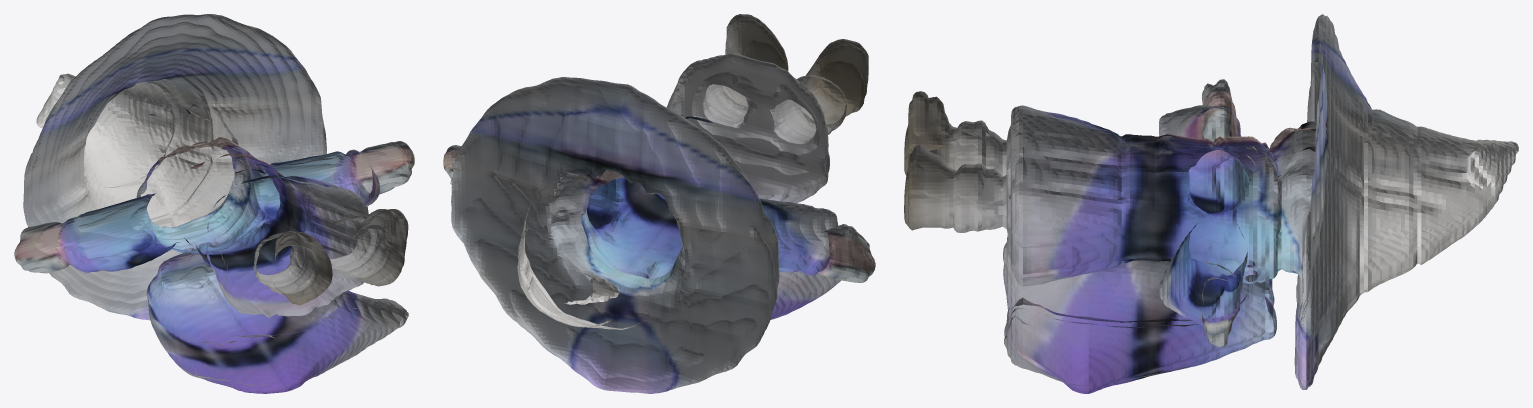
Rendered from tmp1im04zek.glb.
3 renders of one model, left to right at view 1: azimuth 30°, elevation 25°; view 2: azimuth 150°, elevation 25°; view 3: azimuth 270°, elevation 25°, orthographic. The views are drawn at different scales.
Visible parts, largest first — view 1: world; view 2: world; view 3: world.
Boxes of the visible parts, x1,y1,x2,y2 form: world: (14,14,414,393); world: (443,14,875,393); world: (904,14,1518,393).
Bounding box in the file's own units: 0.8974 × 0.6477 × 1.02.
